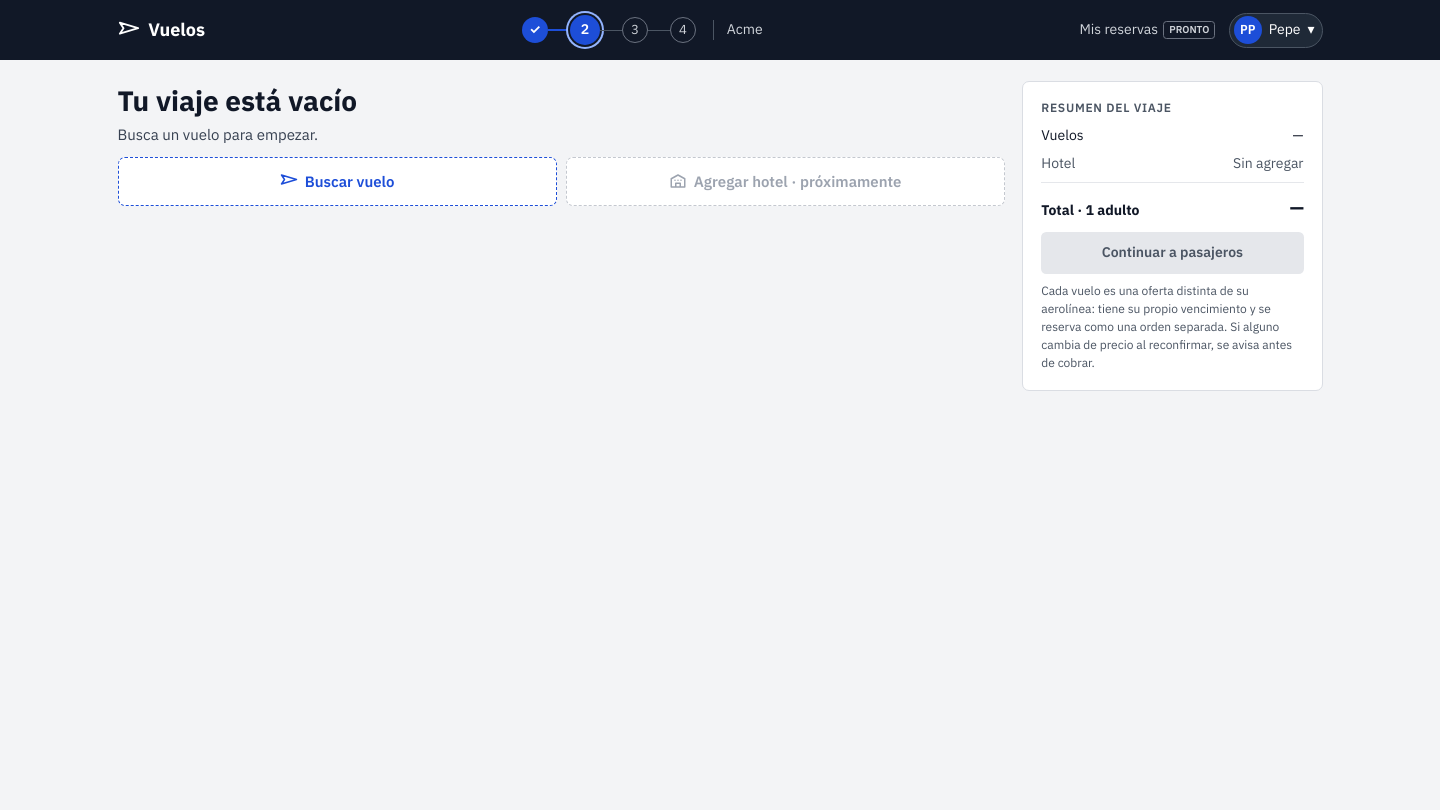
Test: an organization's installation › goes to its sign in after signing out
Click the button "PP Pepe ▾" at x=1276, y=30, box [1229, 12, 1322, 48]
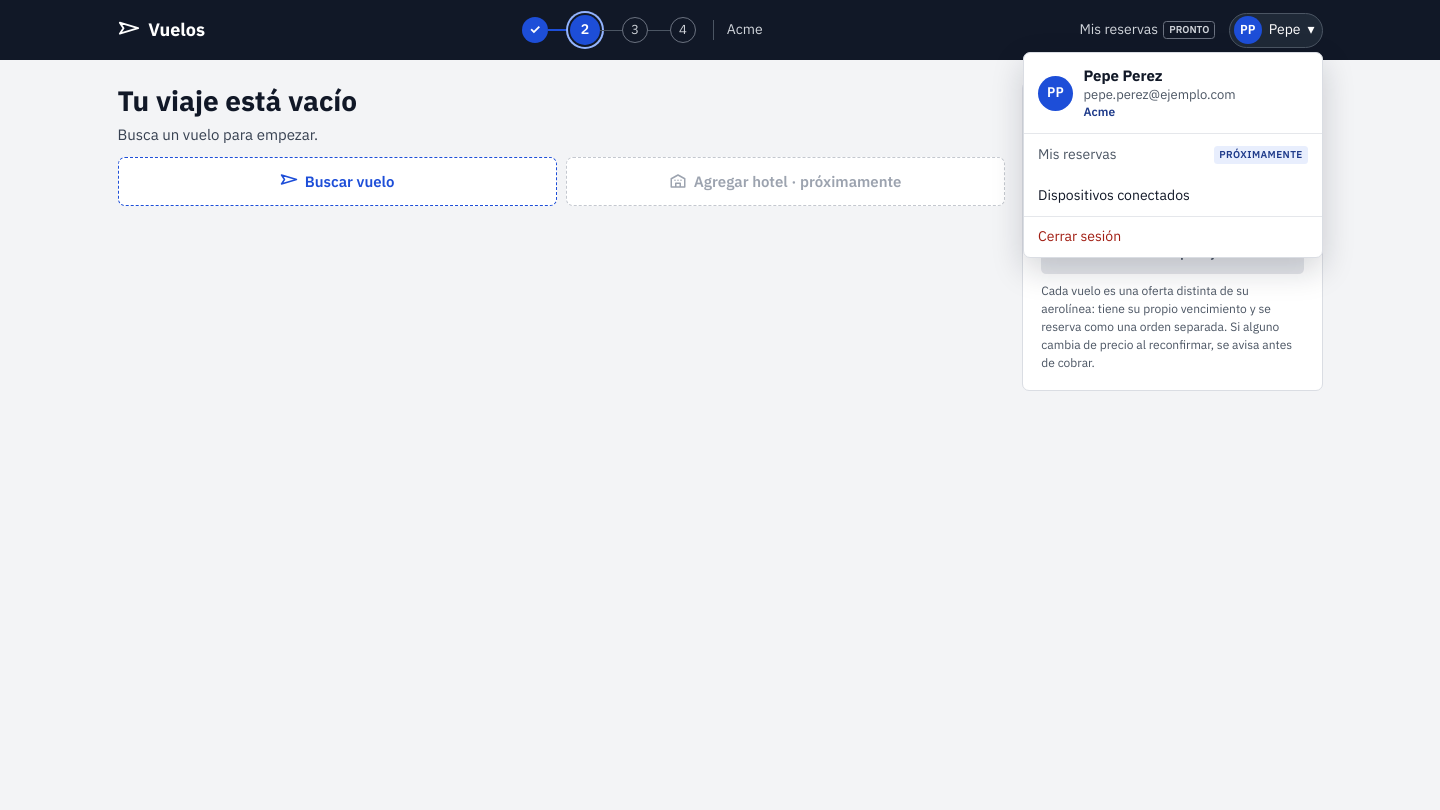
Click the menu item "Cerrar sesión" at x=1080, y=236, box [1024, 216, 1322, 257]
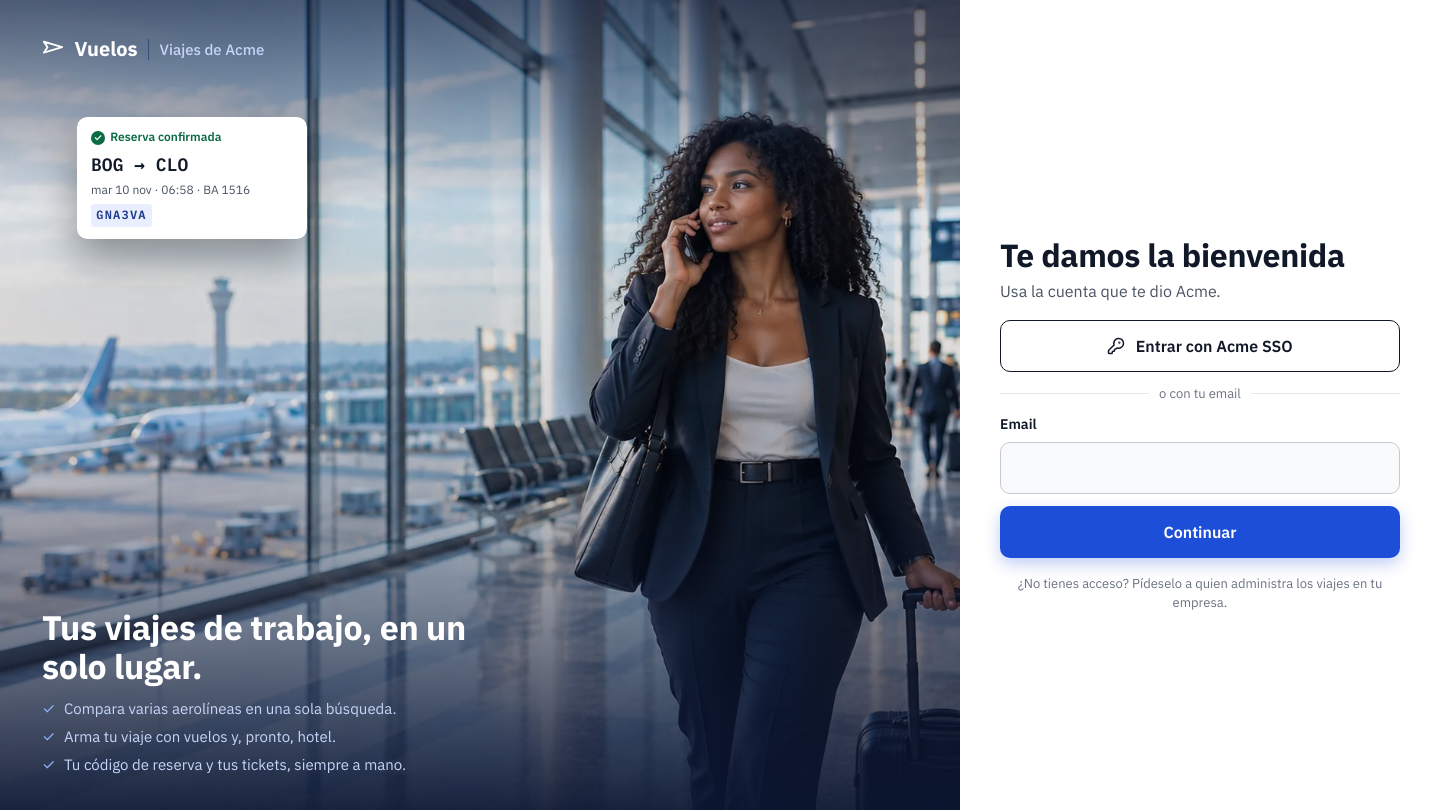
Check: the text "Usa la cuenta que te dio Acme." is shown, box [1000, 281, 1221, 301]
